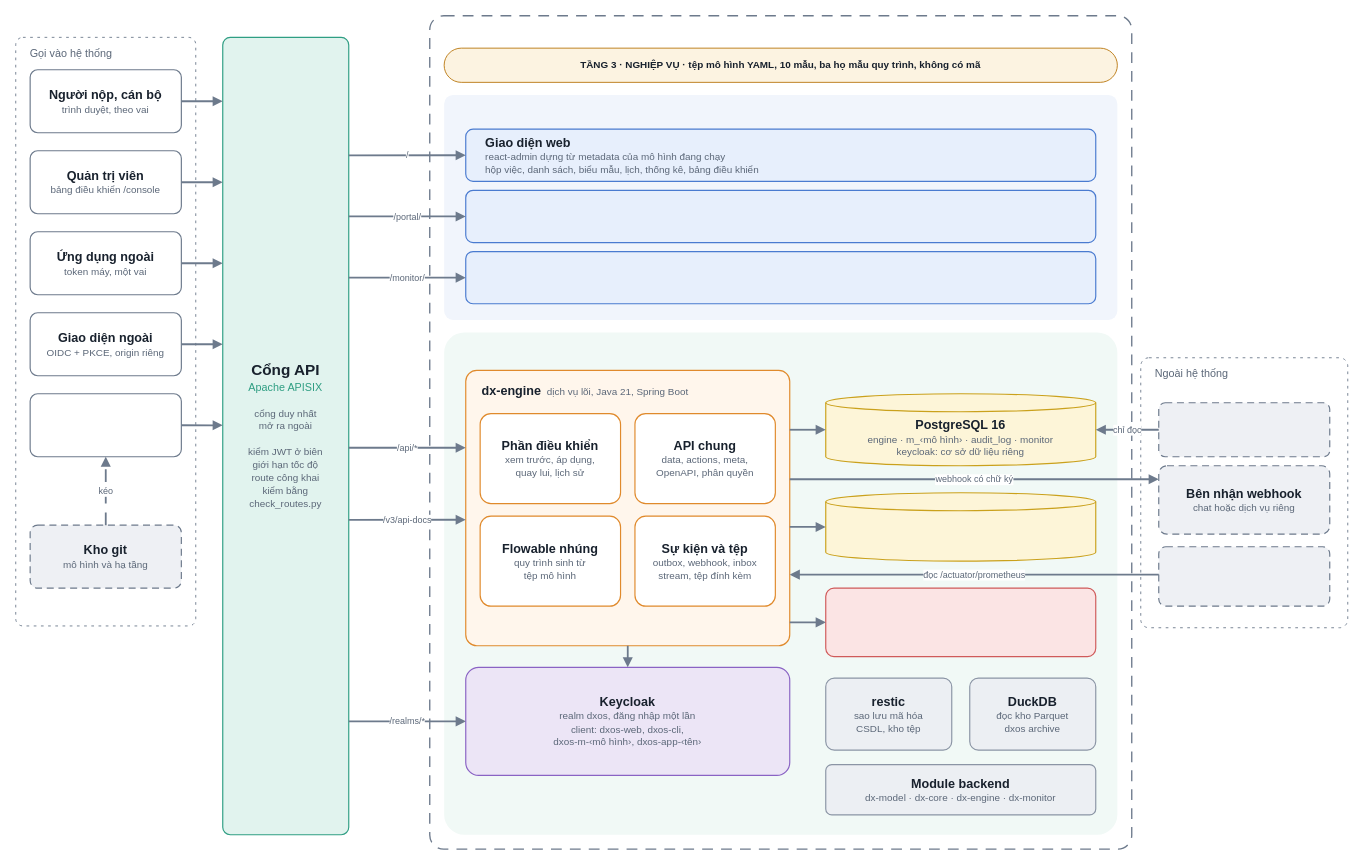
Image size: 1364x866. Some labels were removed from this diagram. The shapes that lost their labels are listed below. From the top down, each one's box as (x1, y1, x2, y2) in pixels, then its label:
(444, 94, 1117, 320): TẦNG 2 · ỨNG DỤNG DỰNG TỪ DỮ LIỆU CỦA LÕI
(465, 189, 1096, 243): Portal trang liên kết các địa chỉ và trạng thái dịch vụ
(465, 251, 1096, 304): Màn hình giám sát dx-monitor: nhật ký truy cập và truy vết, chỉ ADMIN
(29, 393, 182, 457): Lệnh dxos plan, apply, gitops
(429, 15, 1132, 849): Mạng nội bộ Docker
(1158, 402, 1330, 457): Công cụ báo cáo vai report_ro, chỉ đọc
(825, 492, 1096, 561): SeaweedFS đính kèm, điểm neo lịch sử, kho Parquet
(444, 332, 1117, 834): TẦNG 1 · LÕI KHÔNG GIAO DIỆN, CHỈ CÓ API
(1158, 546, 1330, 606): Prometheus số đo vận hành
(825, 587, 1096, 657): ClamAV quét mã độc, từ chối khi chưa quét
